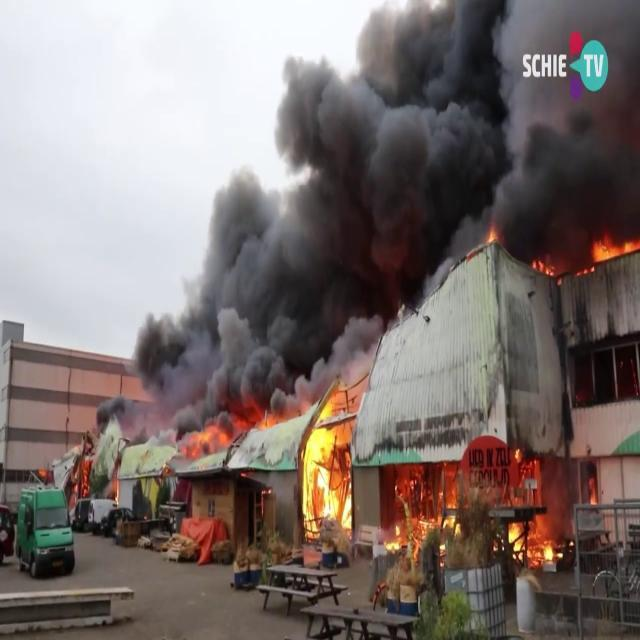Fire: (300, 357, 370, 547), (506, 515, 560, 569)
Smoke: (106, 0, 640, 427)
